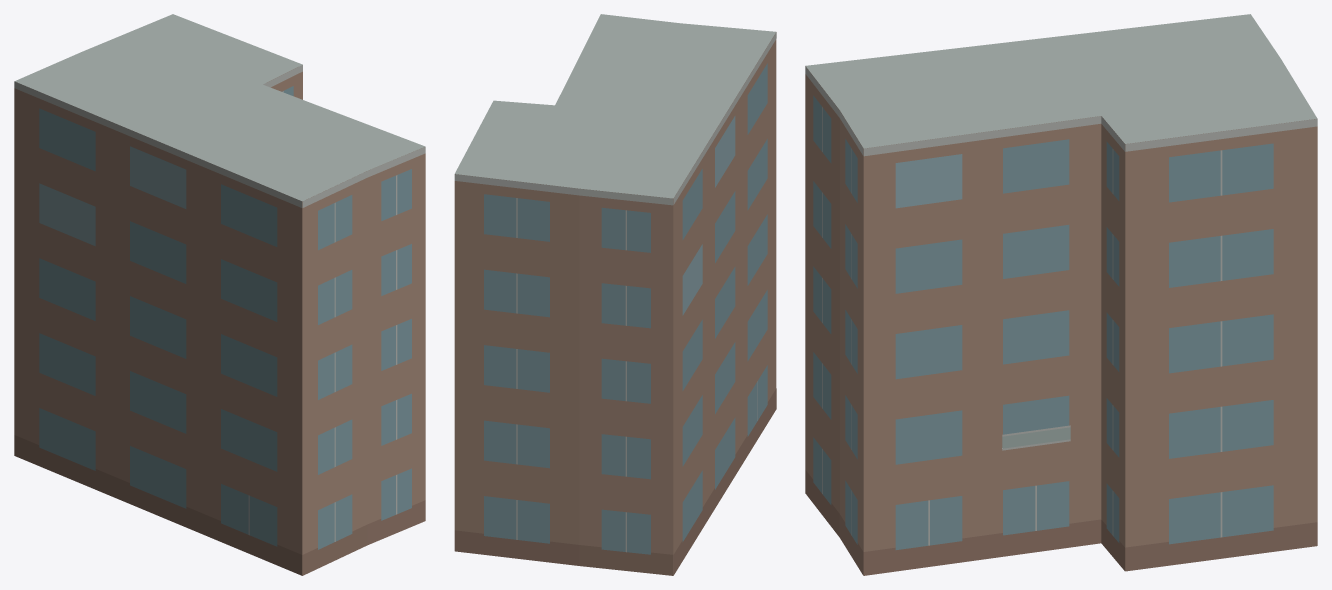
Rendered from survey-upis-32583184.glb.
3 views of the same model, side by side, from view 1: azimuth 30°, elevation 25°; view 2: azimuth 150°, elevation 25°; view 3: azimuth 270°, elevation 25° (orthographic). The views are drawn at different scales.
Visible parts, largest first — view 1: survey-upis-32583184.tmp; view 2: survey-upis-32583184.tmp; view 3: survey-upis-32583184.tmp.
Part boxes in pixels (x1,y1,x2,y2): survey-upis-32583184.tmp: (14, 14, 425, 575); survey-upis-32583184.tmp: (454, 14, 776, 575); survey-upis-32583184.tmp: (805, 14, 1317, 575).
Size of the model in its own units: 9.06 by 13.4 by 14.57.
